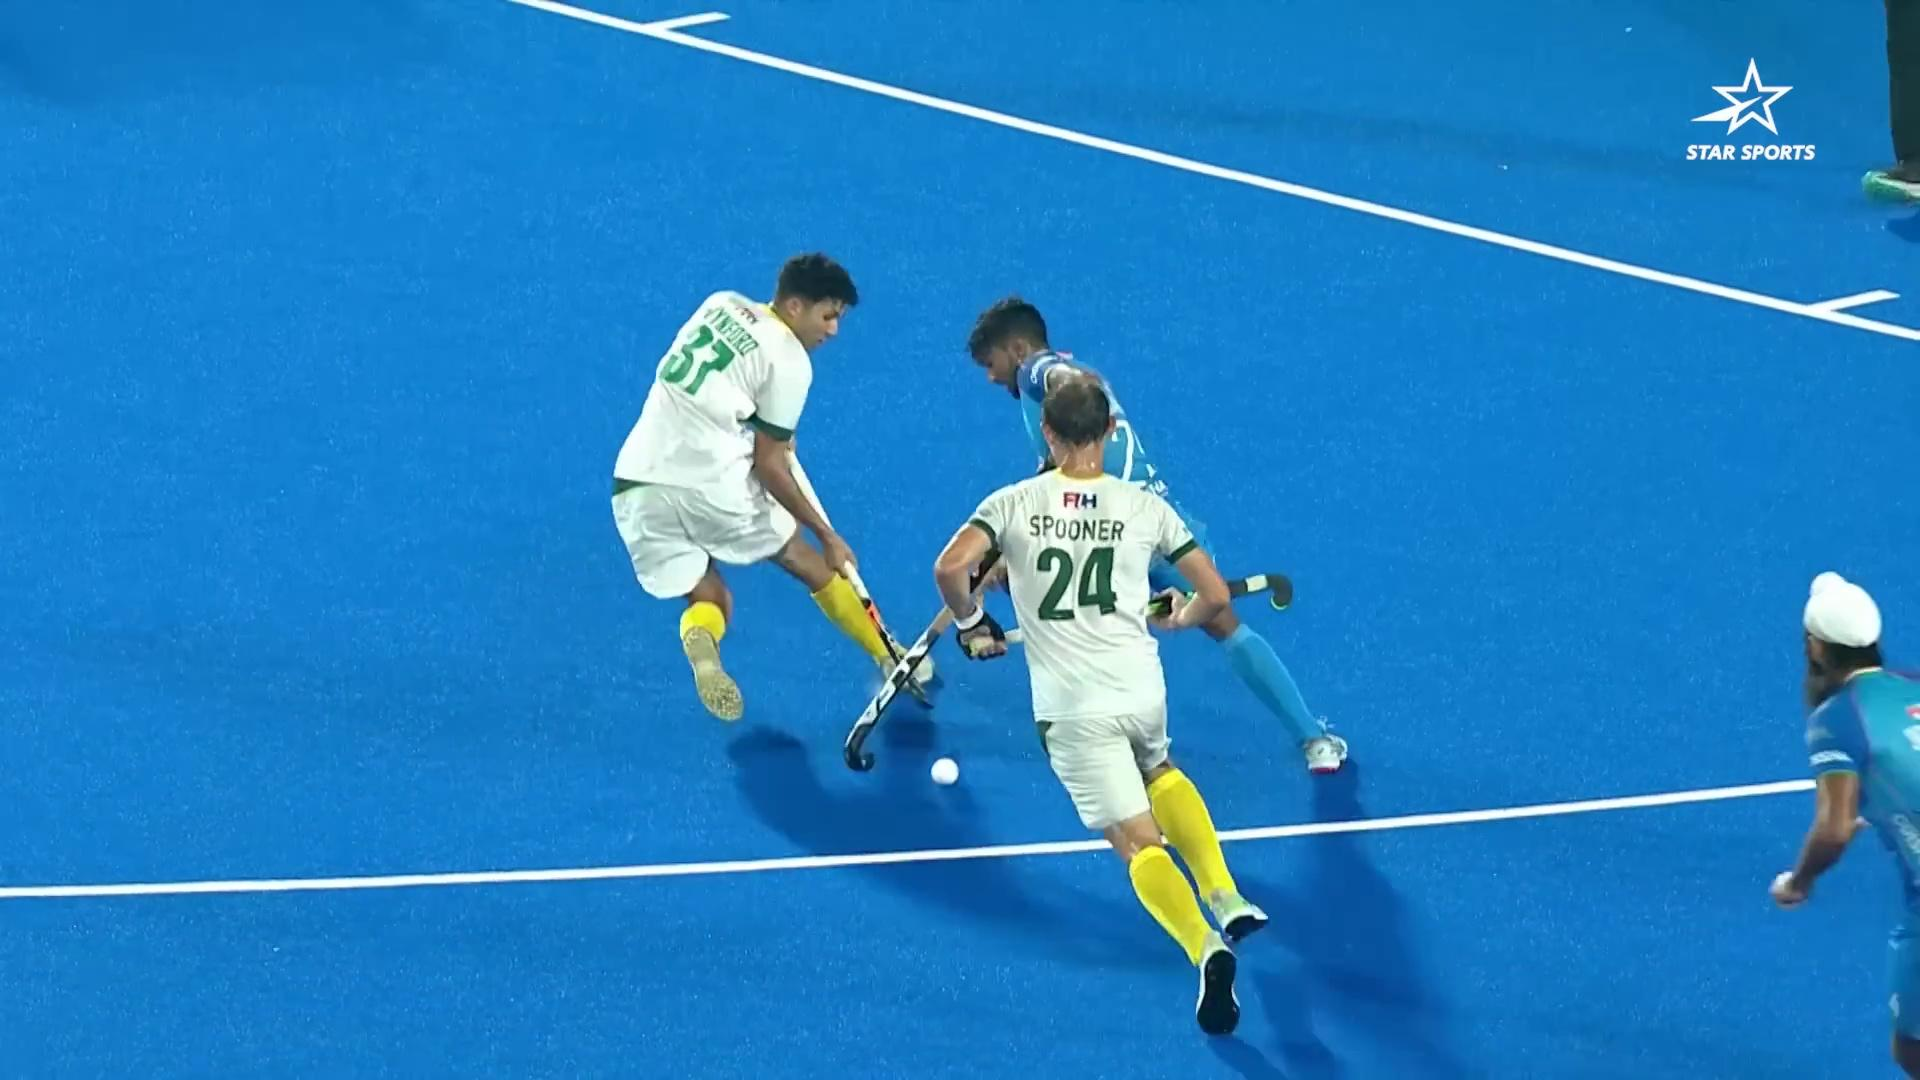ball: (920, 746, 972, 798)
